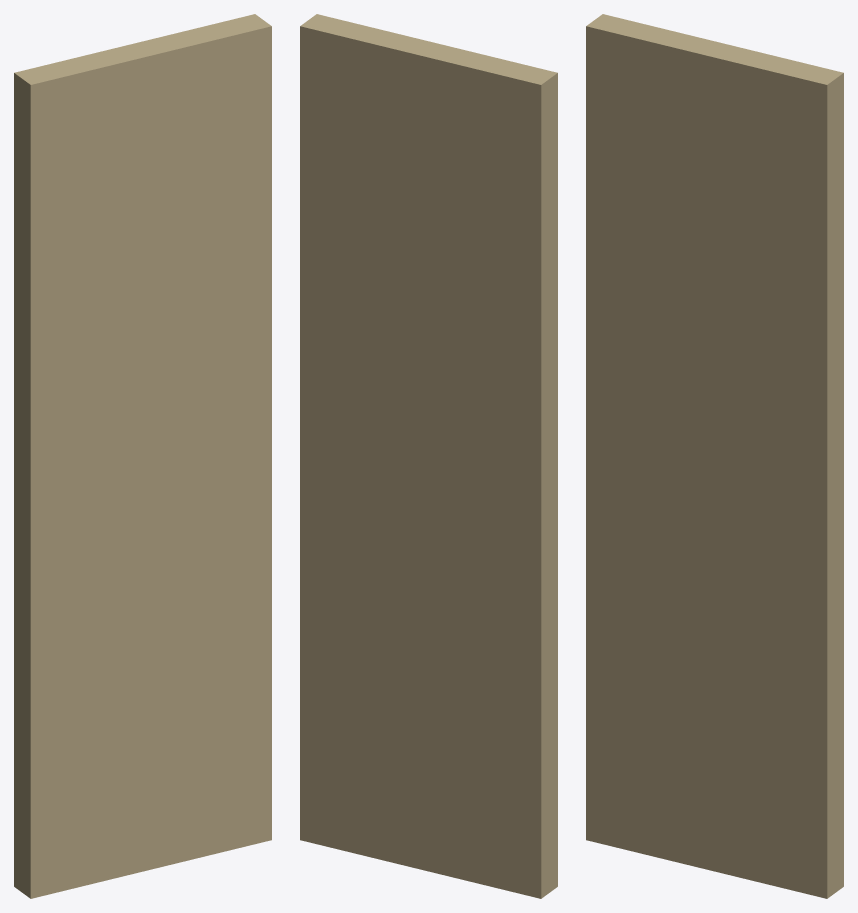
3 renders of one model, left to right at view 1: azimuth 30°, elevation 25°; view 2: azimuth 150°, elevation 25°; view 3: azimuth 330°, elevation 25°, orthographic.
Parts seen in each view (by area): view 1: GF-W123; view 2: GF-W123; view 3: GF-W123.
Boxes of the visible parts, x1,y1,x2,y2 form: GF-W123: [14, 14, 271, 898]; GF-W123: [300, 14, 557, 898]; GF-W123: [586, 14, 843, 898].
Bounding box in the file's own units: 0.75 × 2.42 × 0.09.
